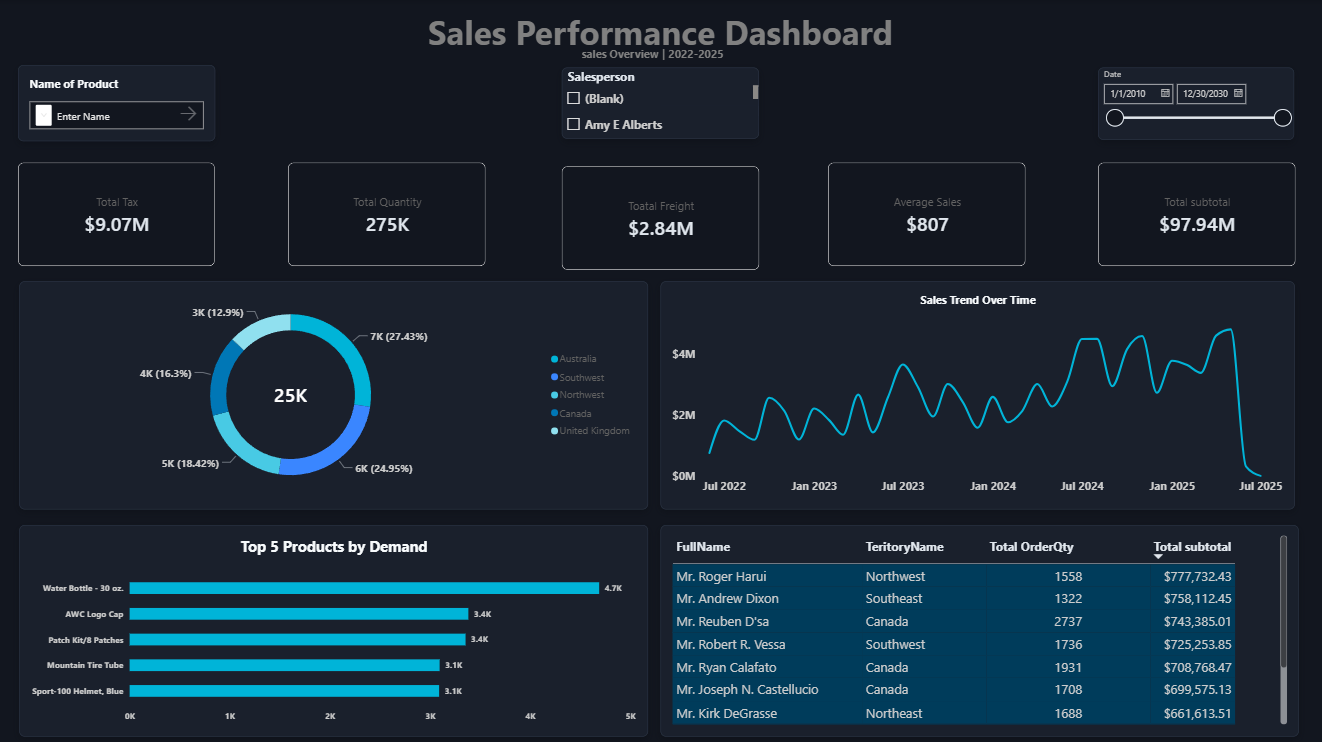

This screenshot's page, from the dashboard's own definition file:
{"tool":"powerbi","page":{"name":"Dashboard","canvas":[1920,1080],"ordinal":0},"visuals":[{"type":"textbox","box":[10.9,12.7,1896.5,85.1],"z":0},{"type":"cardVisual","fields":{"Data":["measures_.Total Tax"]},"box":[29.7,234.5,285.9,150.2],"z":1000},{"type":"cardVisual","fields":{"Data":["measures_.sum or qty"]},"box":[420.3,234.6,286,150],"z":2000},{"type":"cardVisual","fields":{"Data":["measures_.Toatal Freight"]},"box":[816,240,286,150],"z":3000},{"type":"cardVisual","fields":{"Data":["measures_.Average Sales"]},"box":[1201.8,234.6,286,150],"z":4000},{"type":"cardVisual","fields":{"Data":["measures_.Total subtotal"]},"box":[1592.5,234.6,286,150],"z":5000},{"type":"lineChart","title":"Sales Trend Over Time","fields":{"Category":["DimDate.Date.Variation.Date Hierarchy.Year","DimDate.Date.Variation.Date Hierarchy.Month"],"Y":["measures_.Total subtotal"]},"box":[960,408,918,330],"z":6000},{"type":"tableEx","fields":{"Values":["DimCustomer.FullName","DimCustomer.TeritoryName","Sum(Fact_Sales.OrderQty)","measures_.Total subtotal"]},"box":[960,760,924,306],"z":7000},{"type":"donutChart","fields":{"Category":["DimSalesTerritory.TeritoryName"],"Y":["measures_.count orders"]},"box":[30,408,910,330],"z":8000},{"type":"clusteredBarChart","title":"Top 5 Products by Demand","fields":{"Category":["DimProduct.Name"],"Y":["measures_.count orders"]},"box":[30,760,910,306],"z":9000},{"type":"textSlicer","title":"Name of Product","fields":{"Values":["DimProduct.Name"]},"box":[29,94.4,285.9,110.4],"z":10000},{"type":"slicer","fields":{"Values":["DimSalesPerson.FullName"]},"box":[816.2,98,285.9,103.2],"z":11000},{"type":"actionButton","title":"sales Overview | 2022-2025","box":[845.1,67,229.8,30.8],"z":12000},{"type":"slicer","fields":{"Values":["DimDate.Date"]},"box":[1592.5,97.1,284.1,105],"z":13000}]}

Visuals, with their boxes in screenshot pixels (x1, y1, x2, y2), scaled from the page's 1920x1080 canvas onto the 1322x742 screenshot:
textbox: Rect(8, 9, 1313, 67)
cardVisual - measures_.Total Tax: Rect(20, 161, 217, 264)
cardVisual - measures_.sum or qty: Rect(289, 161, 486, 264)
cardVisual - measures_.Toatal Freight: Rect(562, 165, 759, 268)
cardVisual - measures_.Average Sales: Rect(827, 161, 1024, 264)
cardVisual - measures_.Total subtotal: Rect(1097, 161, 1293, 264)
"Sales Trend Over Time" lineChart: Rect(661, 280, 1293, 507)
tableEx - DimCustomer.FullName x DimCustomer.TeritoryName: Rect(661, 522, 1297, 732)
donutChart - DimSalesTerritory.TeritoryName x measures_.count orders: Rect(21, 280, 647, 507)
"Top 5 Products by Demand" clusteredBarChart: Rect(21, 522, 647, 732)
"Name of Product" textSlicer: Rect(20, 65, 217, 141)
slicer - DimSalesPerson.FullName: Rect(562, 67, 759, 138)
"sales Overview | 2022-2025" actionButton: Rect(582, 46, 740, 67)
slicer - DimDate.Date: Rect(1097, 67, 1292, 139)
